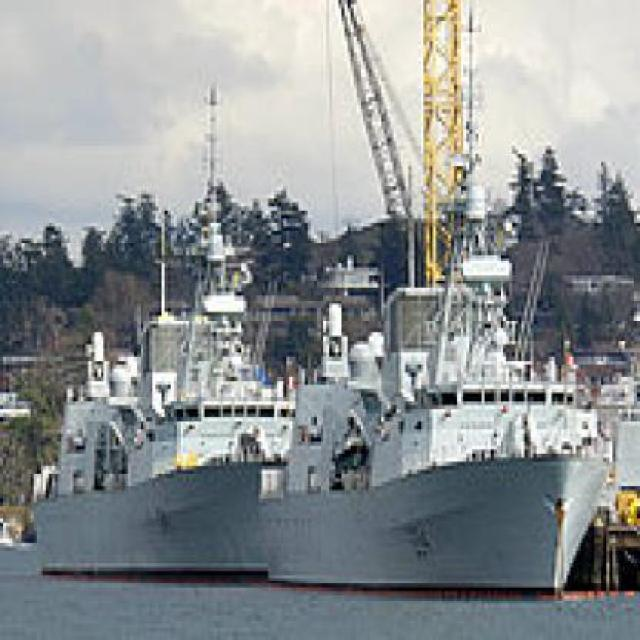warship2: (266, 212, 605, 601), (19, 216, 282, 597)
